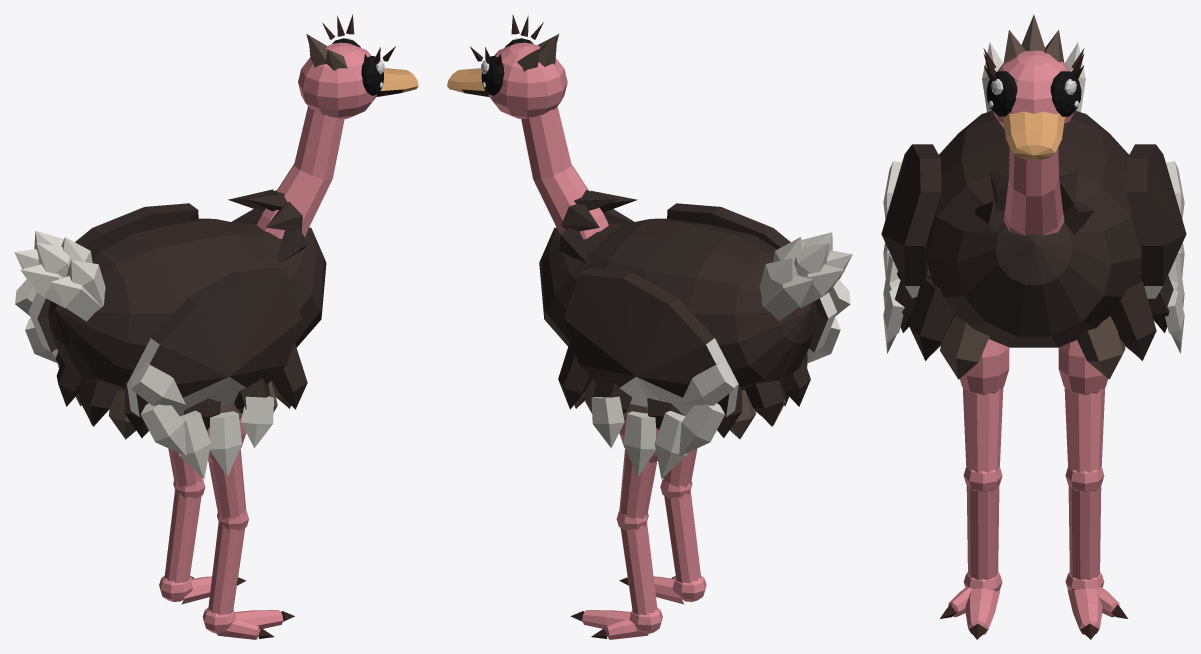
File: ostrich.glb
3 views of the same model, side by side, from view 1: azimuth 30°, elevation 25°; view 2: azimuth 150°, elevation 25°; view 3: azimuth 270°, elevation 25° (orthographic). The views are drawn at different scales.
Parts seen in each view (by area): view 1: body, wing_r, head, leg_r, tail, neck, leg_l, wing_l; view 2: body, wing_l, head, leg_l, tail, neck, leg_r, wing_r; view 3: body, leg_r, leg_l, head, wing_l, wing_r, neck, tail.
Part boxes in pixels (box(x1,y1,x2,y2)): body: box(48, 189, 326, 439); wing_r: box(127, 268, 302, 478); head: box(298, 14, 418, 118); leg_r: box(202, 414, 294, 639); tail: box(14, 230, 105, 321); neck: box(257, 106, 344, 238); leg_l: box(159, 448, 246, 604); wing_l: box(15, 203, 198, 367); body: box(539, 190, 817, 438); wing_l: box(563, 268, 738, 478); head: box(447, 15, 567, 118); leg_l: box(570, 413, 662, 639); tail: box(759, 232, 852, 321); neck: box(521, 106, 608, 239); leg_r: box(619, 448, 706, 604); wing_r: box(667, 203, 850, 367); body: box(895, 110, 1173, 379); leg_r: box(940, 339, 1009, 639); leg_l: box(1058, 340, 1127, 639); head: box(983, 14, 1084, 159); wing_l: box(1126, 144, 1186, 353); wing_r: box(881, 144, 941, 353); neck: box(1003, 147, 1064, 235); tail: box(982, 42, 1085, 112).
Bounding box in the file's own units: 1.77 × 2.4 × 1.02.
